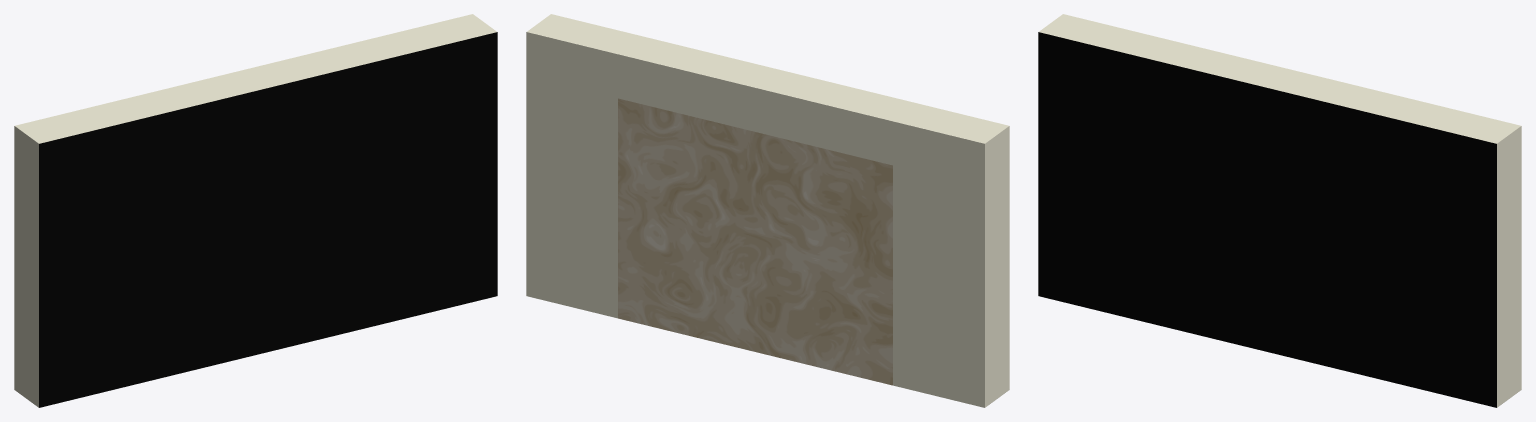
The model's file is Lockers.fbx.
3 views of the same model, side by side, from view 1: azimuth 30°, elevation 25°; view 2: azimuth 150°, elevation 25°; view 3: azimuth 330°, elevation 25° (orthographic).
Parts seen in each view (by area): view 1: Cube.008, Cube.006; view 2: Cube.006, Cube.007; view 3: Cube.008, Cube.006.
Boxes of the visible parts, bbox=[...] form: Cube.008: bbox=[39, 32, 497, 407]; Cube.006: bbox=[14, 14, 496, 407]; Cube.006: bbox=[526, 14, 1009, 407]; Cube.007: bbox=[618, 98, 892, 385]; Cube.008: bbox=[1038, 32, 1496, 407]; Cube.006: bbox=[1039, 14, 1521, 407].
Size of the model in its own units: 1073 by 591 by 100.
3 materials, 3 textured.
